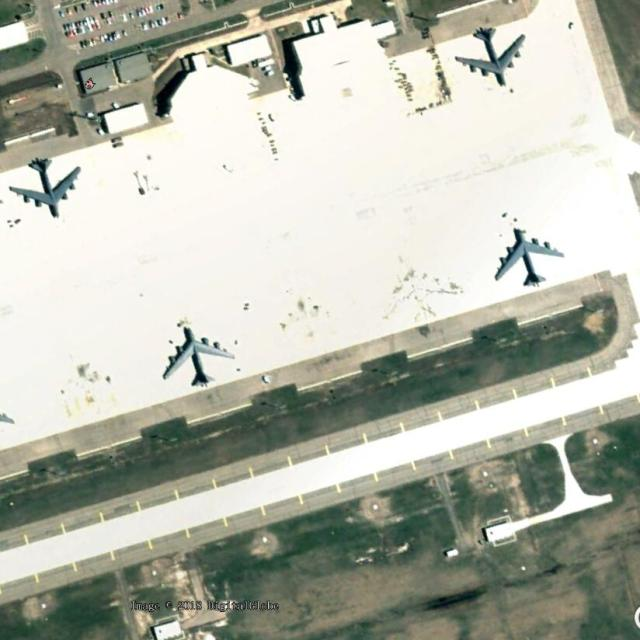fighter jet: (455, 20, 527, 90), (8, 154, 81, 221), (162, 320, 224, 389), (496, 222, 553, 293)
